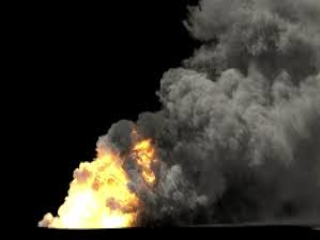fire: (34, 122, 144, 225)
smoke: (142, 13, 313, 216)
